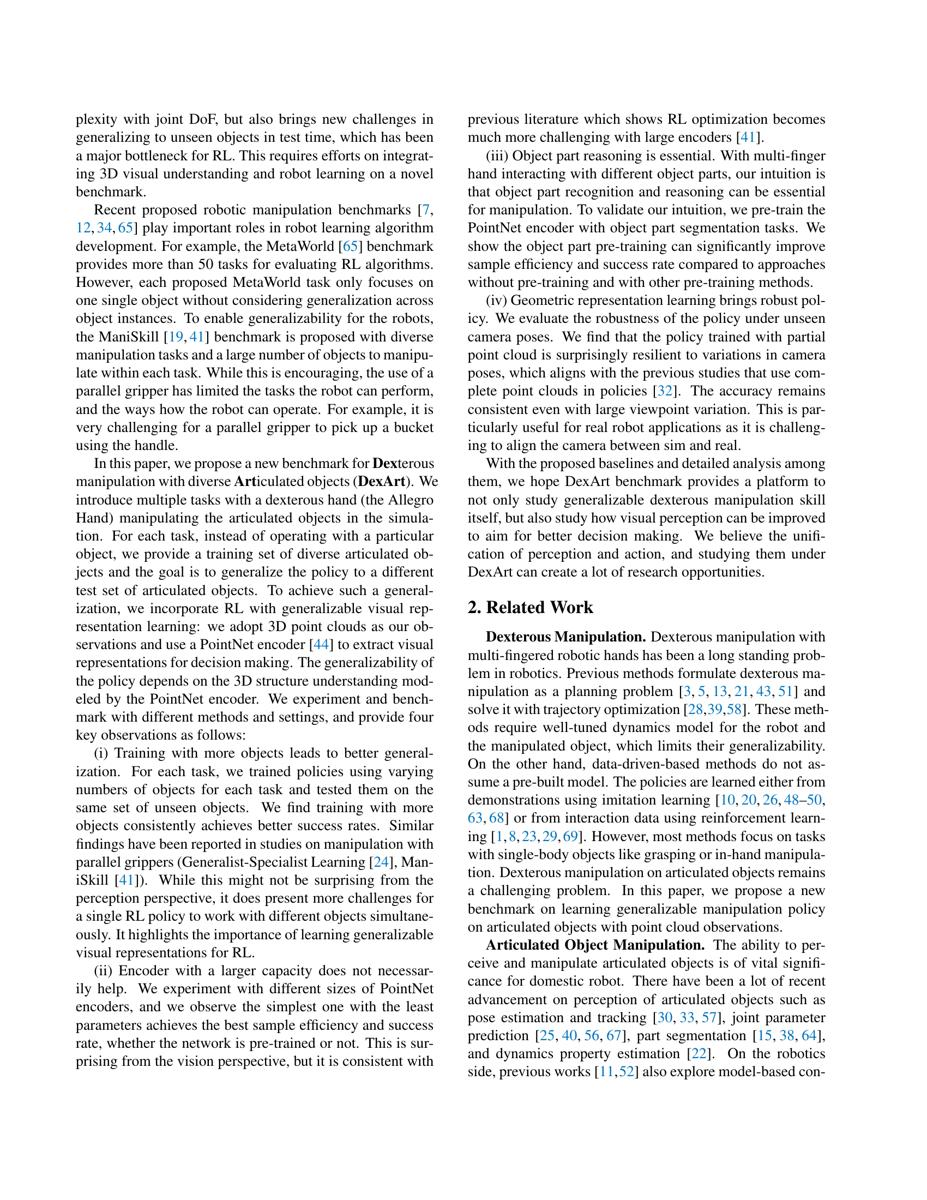text: (462, 595, 830, 1084), (462, 109, 830, 583), (69, 106, 438, 455), (69, 743, 438, 1075), (69, 455, 441, 745)
